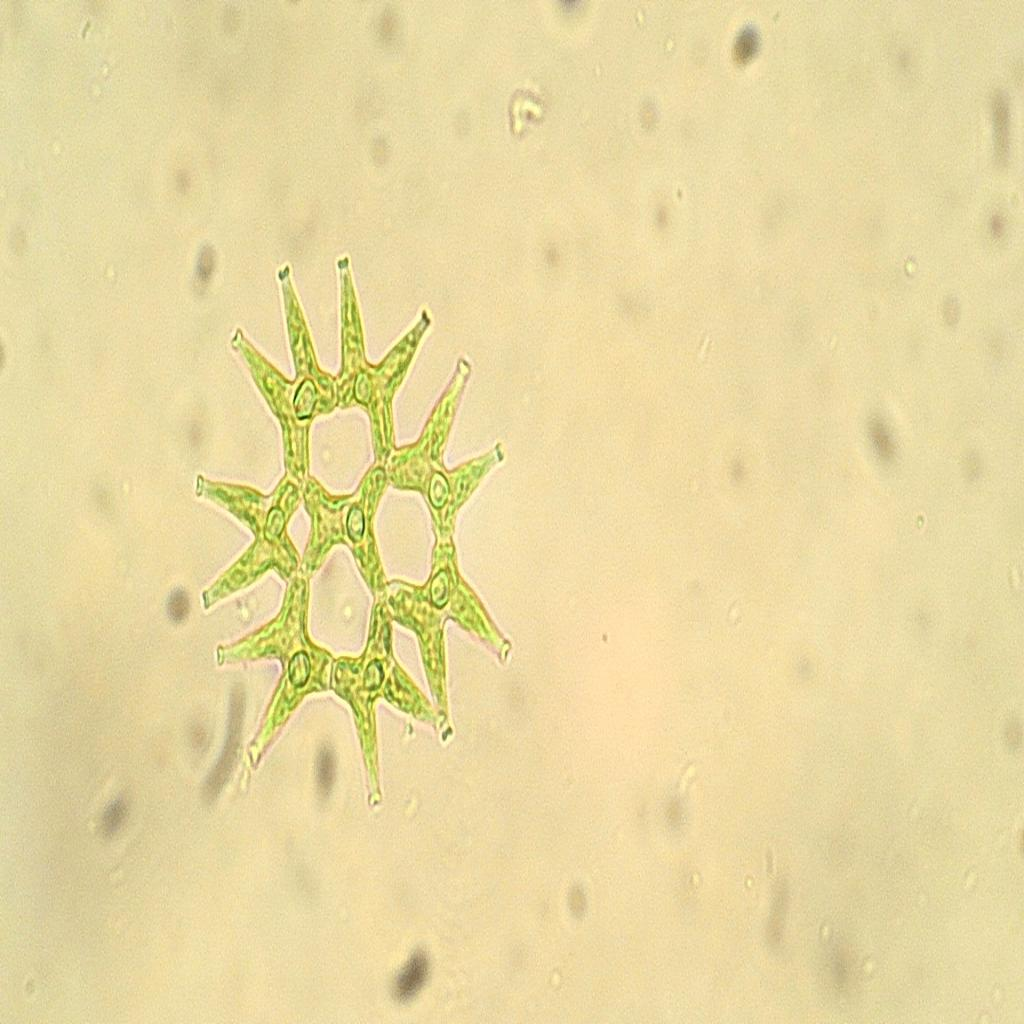Pediastrum_1T: (164, 220, 544, 826)
